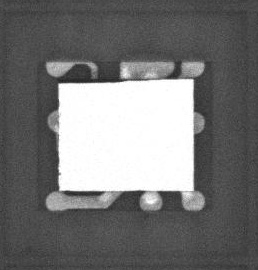DIE_BROKEN: (58, 77, 128, 84)
